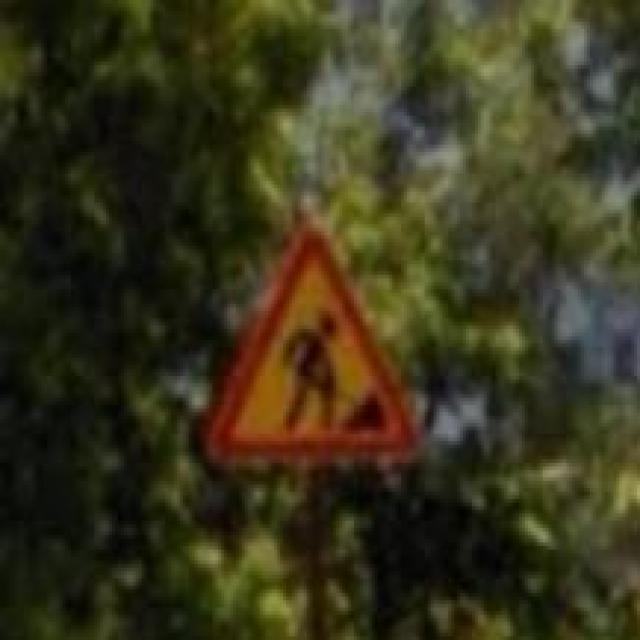road_work: (203, 228, 419, 463)
